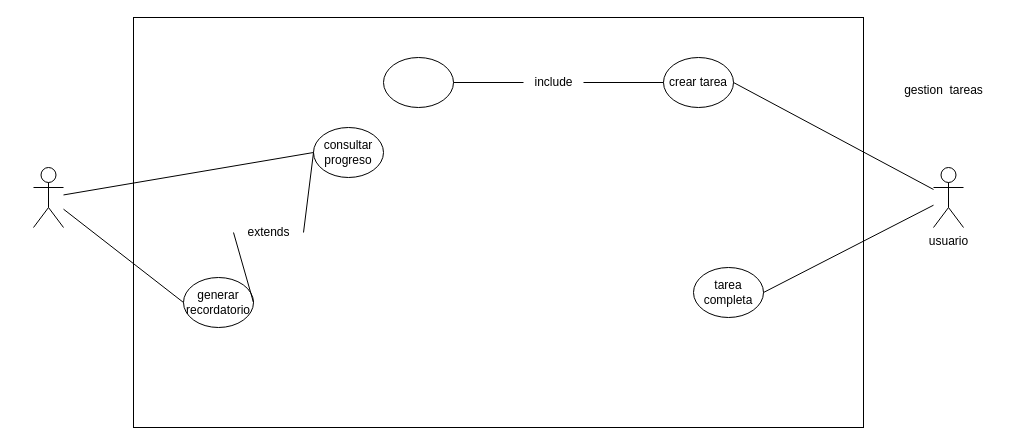
Image size: 1011x445. Some labels were removed from this diagram. The shapes that lost their labels are listed below. From the top down, each one's box as (x1, y1, x2, y2) in pixels, then its label:
(382, 56, 454, 108): asignar tarea
(32, 166, 64, 228): colaborador
